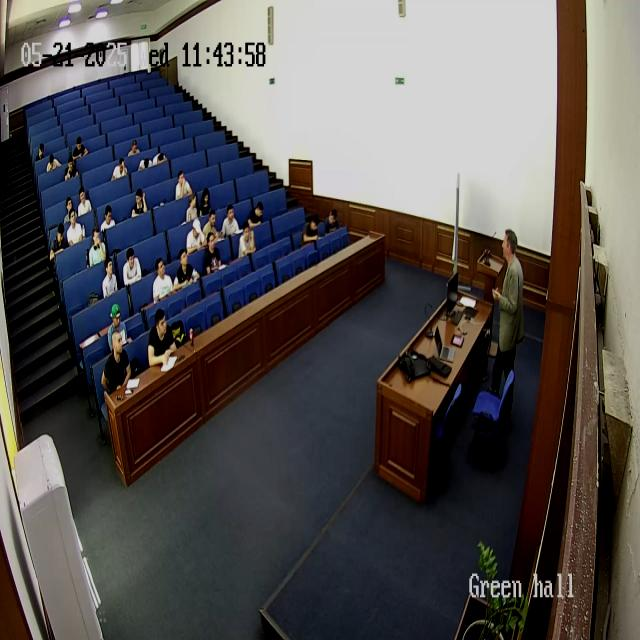person: (488, 229, 526, 426), (101, 328, 133, 399), (146, 307, 178, 367), (172, 247, 200, 293), (151, 258, 174, 305), (108, 301, 130, 348), (122, 245, 142, 291), (204, 231, 224, 276), (48, 222, 68, 263), (87, 226, 107, 266), (64, 209, 84, 247), (237, 222, 256, 260), (101, 258, 119, 298), (186, 218, 206, 253), (220, 205, 240, 239), (203, 207, 221, 242), (300, 213, 318, 246), (244, 200, 264, 229), (99, 204, 116, 237), (174, 170, 192, 201), (131, 187, 149, 217), (186, 191, 202, 224), (76, 186, 92, 218), (324, 207, 340, 236), (110, 158, 128, 182), (199, 187, 213, 217), (62, 195, 76, 225), (64, 155, 78, 181), (46, 153, 62, 174), (73, 135, 87, 159), (137, 154, 153, 172), (127, 139, 141, 157), (152, 150, 166, 166), (36, 143, 46, 161)
